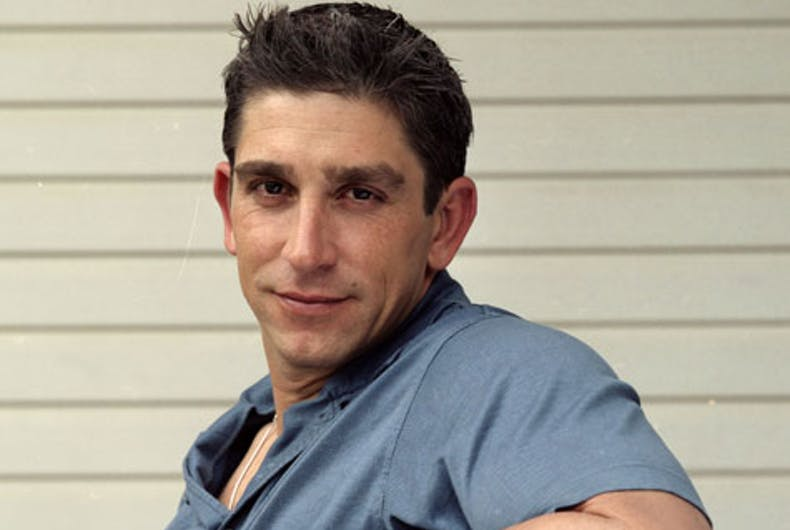bare: (232, 209, 406, 365)
